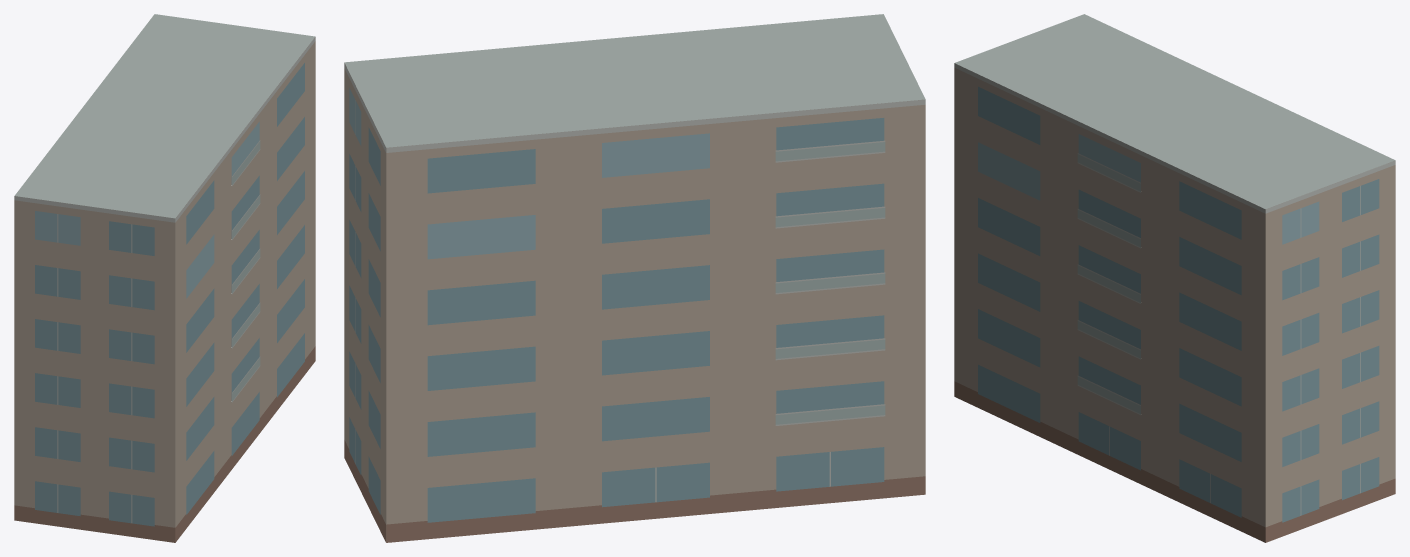
File: survey-upis-32725671.glb
The picture shows the model from 3 angles, left to right: view 1: azimuth 30°, elevation 25°; view 2: azimuth 150°, elevation 25°; view 3: azimuth 270°, elevation 25°; orthographic projection. The views are drawn at different scales.
Parts seen in each view (by area): view 1: survey-upis-32725671.tmp; view 2: survey-upis-32725671.tmp; view 3: survey-upis-32725671.tmp.
Part boxes in pixels (<box>): survey-upis-32725671.tmp: <box>14,14,315,542</box>; survey-upis-32725671.tmp: <box>344,14,925,542</box>; survey-upis-32725671.tmp: <box>954,14,1395,542</box>.
Size of the model in its own units: 22.98 by 18.3 by 21.95.
